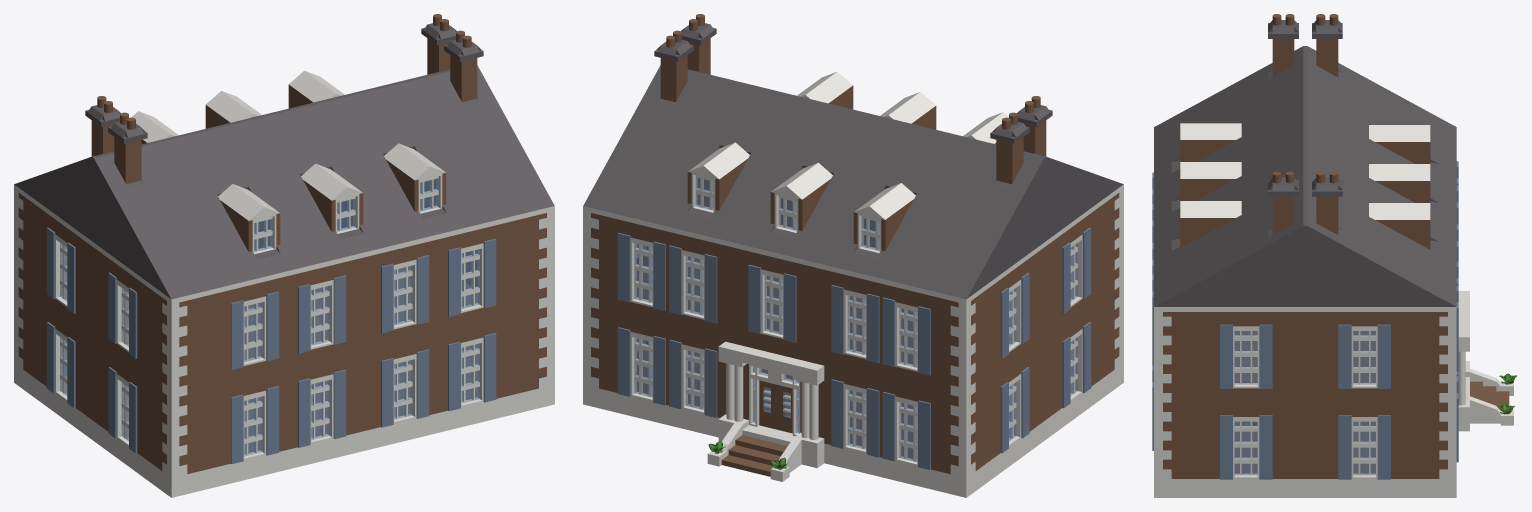
Rendered from pho-nha-thi-truong.glb.
The picture shows the model from 3 angles, left to right: view 1: azimuth 30°, elevation 25°; view 2: azimuth 150°, elevation 25°; view 3: azimuth 270°, elevation 25°; orthographic projection. The views are drawn at different scales.
Parts seen in each view (by area): view 1: pho-nha-thi-truong; view 2: pho-nha-thi-truong; view 3: pho-nha-thi-truong.
Boxes of the visible parts, x1,y1,x2,y2 form: pho-nha-thi-truong: (14, 14, 554, 497); pho-nha-thi-truong: (583, 14, 1123, 497); pho-nha-thi-truong: (1152, 14, 1517, 497).
Size of the model in its own units: 97.8 by 78.81 by 83.27.
6 materials, 1 textured.
